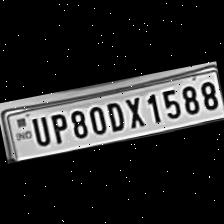0: (84, 100, 110, 136)
1: (140, 90, 164, 126)
5: (156, 84, 182, 120)
8: (176, 78, 201, 116), (66, 104, 91, 140), (195, 75, 219, 112)
D: (102, 96, 128, 133)
P: (46, 109, 71, 145)
U: (26, 112, 52, 148)
X: (120, 92, 146, 130)
